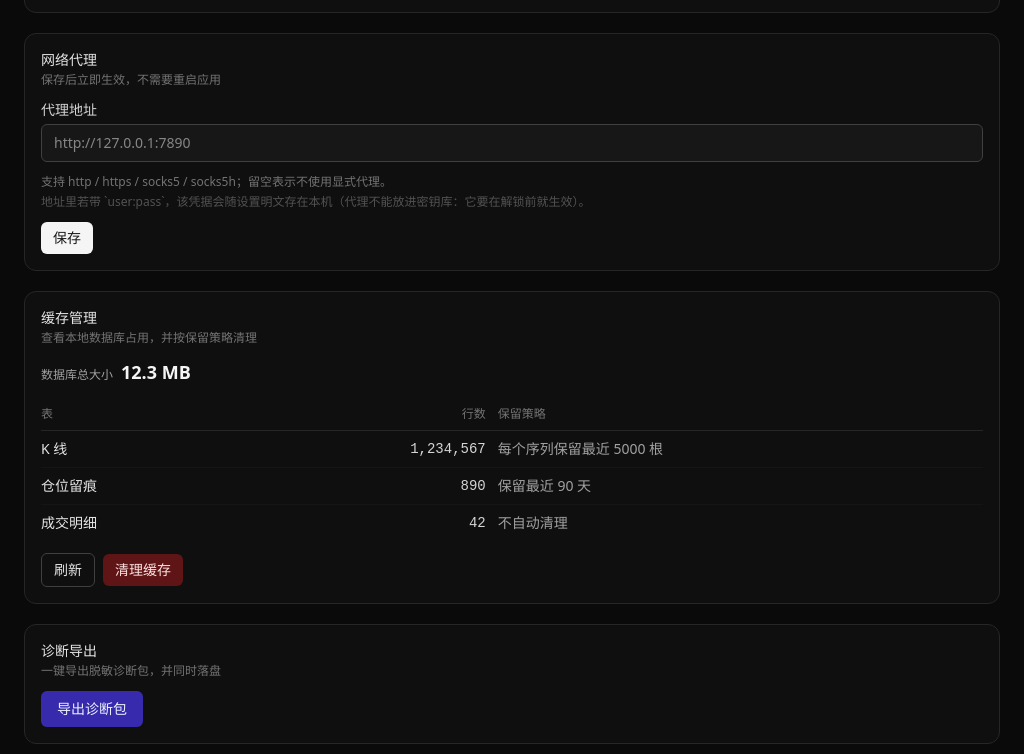
SettingsPage 缓存管理 › deleted 为空时显示「没有需要清理的数据」
(page scrolled)
Click the button "清理缓存" at {"x": 143, "y": 570}, box [103, 554, 183, 586]
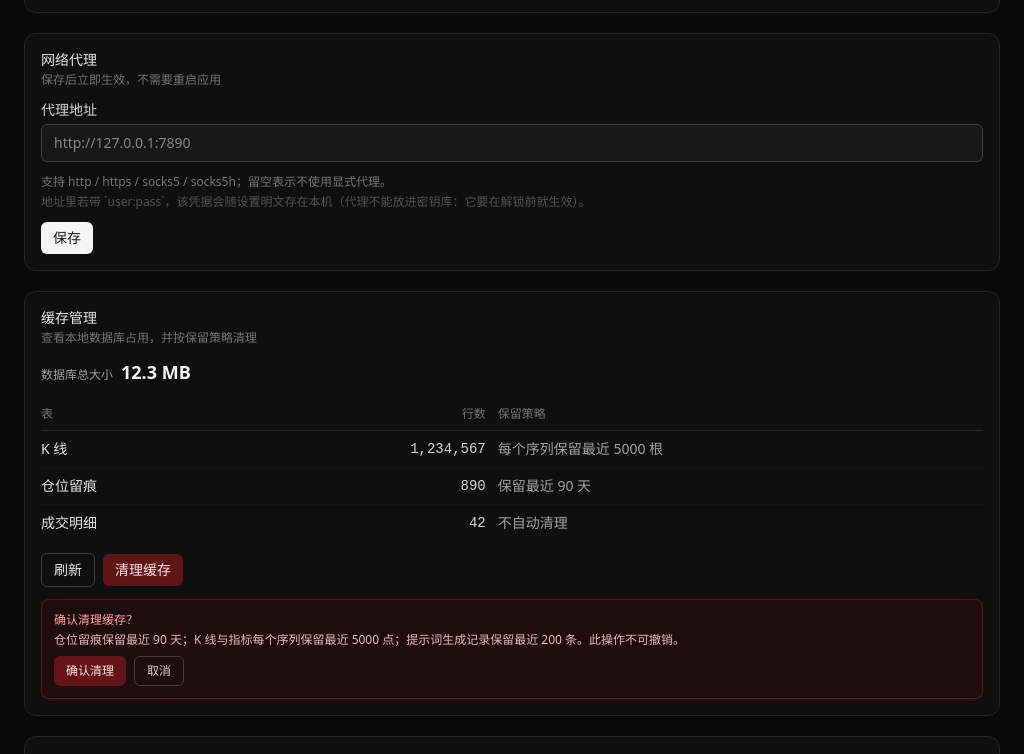
Click the button "确认清理" at {"x": 90, "y": 671}, box [54, 656, 126, 686]
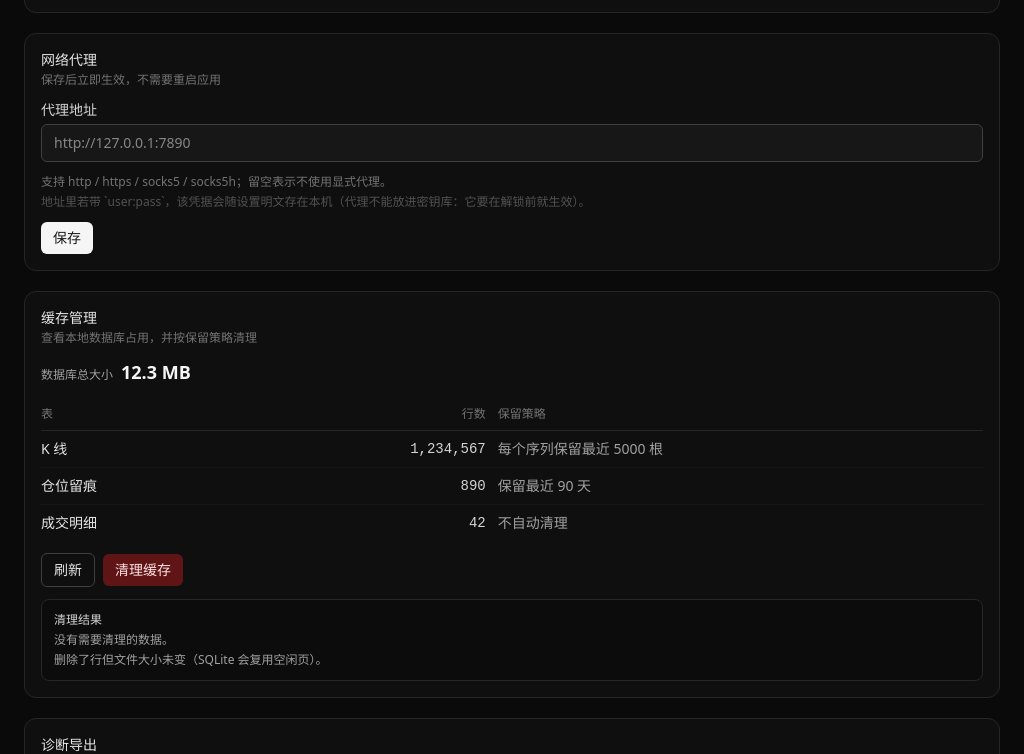
Expected: the text "清理结果" is shown, [54, 611, 102, 628]
Expected: the text "没有需要清理的数据。" is shown, [54, 631, 174, 648]
